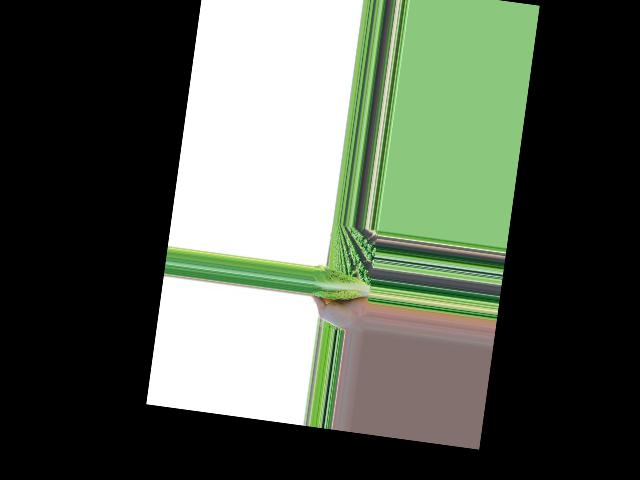lettuce: (312, 265, 373, 304)
